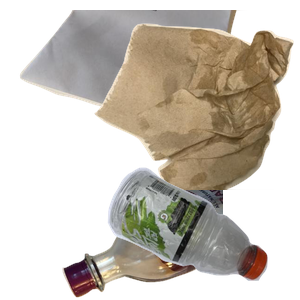glass: (60, 180, 300, 300)
paper: (17, 10, 254, 141)
plastic: (105, 165, 300, 300)
trash: (92, 21, 300, 201)
